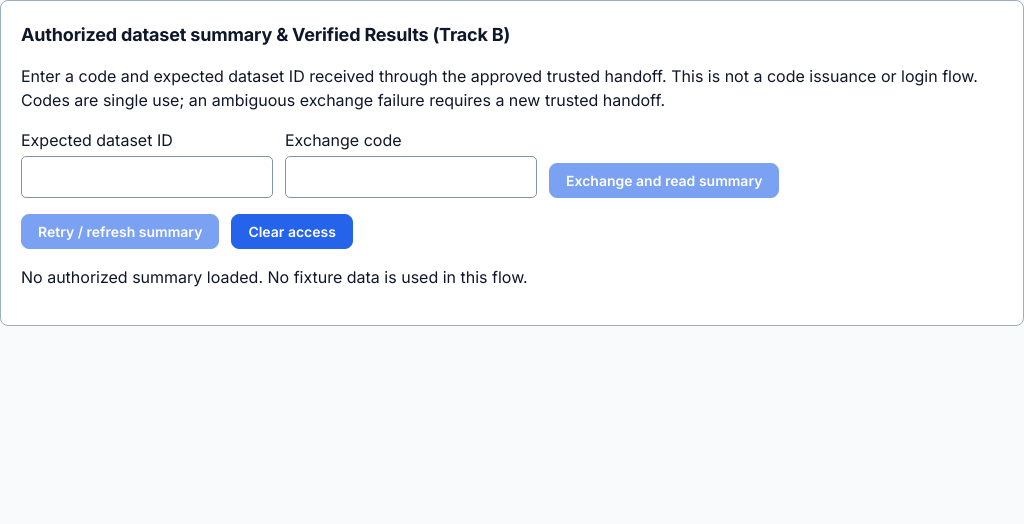
Test: rejects invalid summaries and never renders their metrics
This screenshot has width=1024, height=524.
Type "dataset-a" into the field labelled "Expected dataset ID" at (147, 177), box [21,156,273,198]
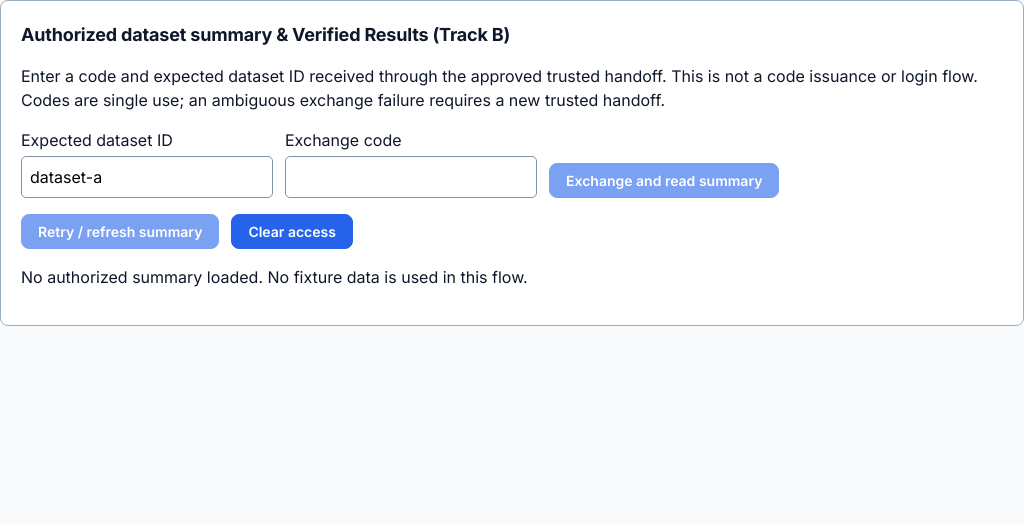
Type "trusted-code" into the password field labelled "Exchange code" at (411, 177), box [285,156,537,198]
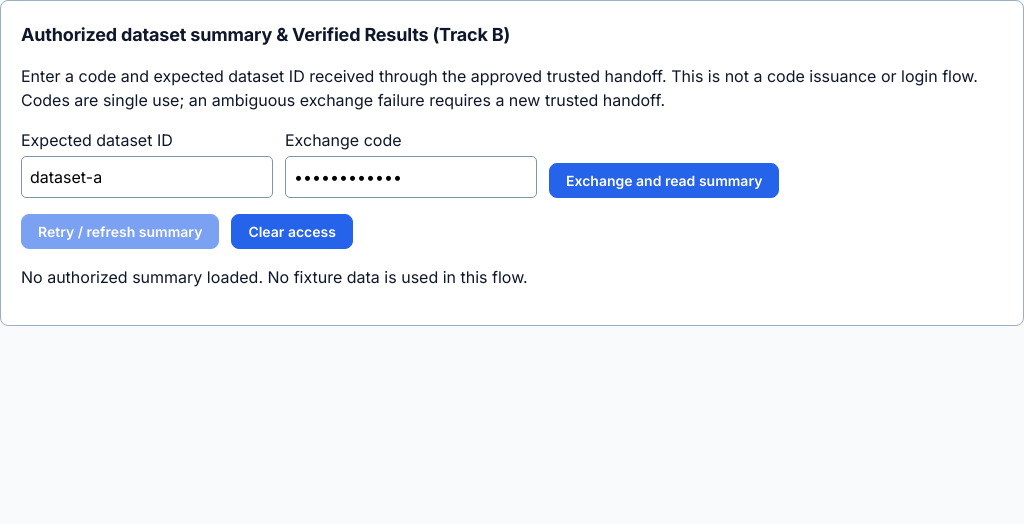
Click the button "Exchange and read summary" at (664, 180), box [549,163,779,198]
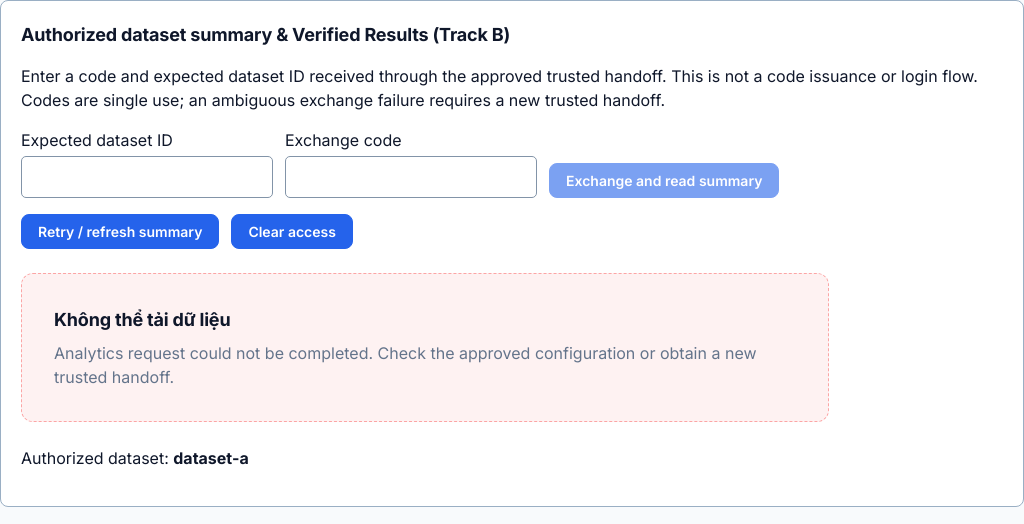
Now the message is shown, box [21,273,828,422]
